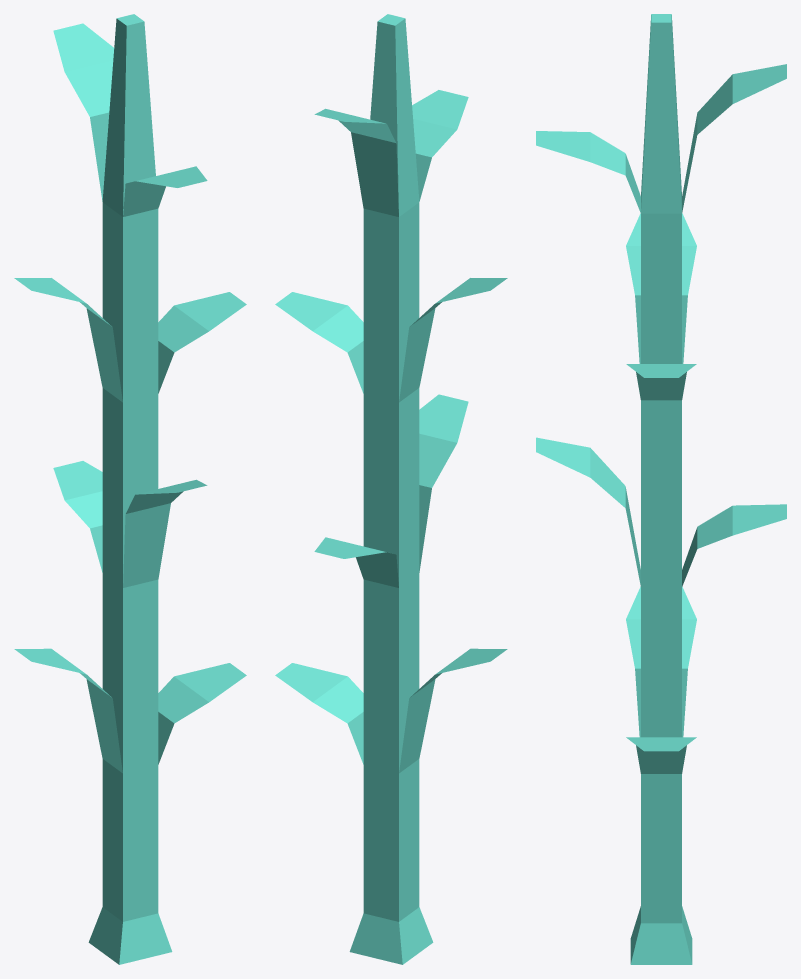
File: crops_cornStageC.glb
3 views of the same model, side by side, from view 1: azimuth 30°, elevation 25°; view 2: azimuth 150°, elevation 25°; view 3: azimuth 270°, elevation 25° (orthographic).
Visible parts, largest first — view 1: crops_cornStageC; view 2: crops_cornStageC; view 3: crops_cornStageC.
Boxes of the visible parts, box(x1,y1,x2,y2) form: crops_cornStageC: box(14, 14, 246, 964); crops_cornStageC: box(275, 14, 507, 964); crops_cornStageC: box(536, 14, 786, 964).
Bounding box in the file's own units: 0.3042 × 1.25 × 0.3042.
